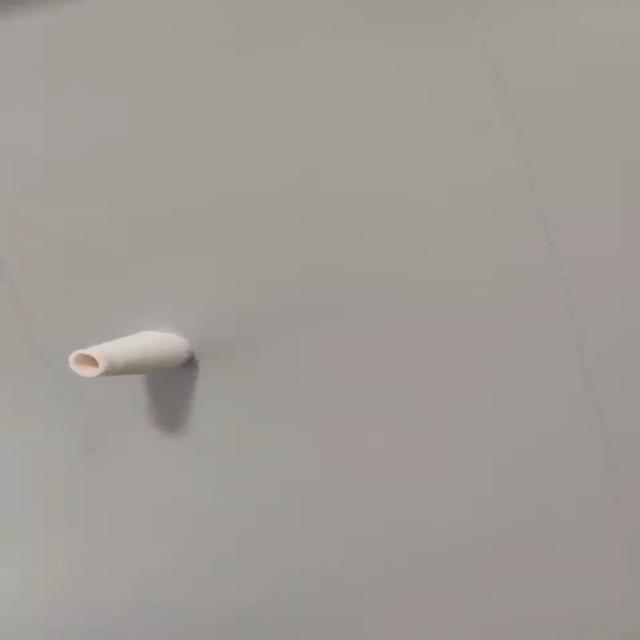Z1x1x1: (67, 330, 203, 377)
